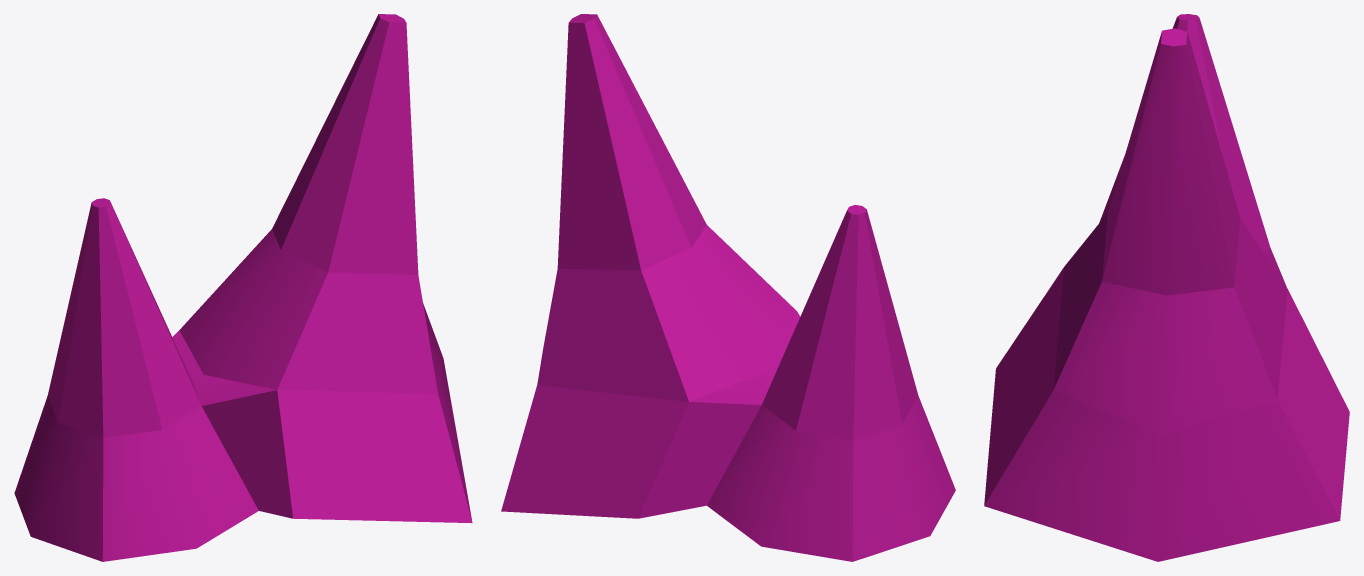
File: Stalagmite.fbx
The picture shows the model from 3 angles, left to right: view 1: azimuth 30°, elevation 25°; view 2: azimuth 150°, elevation 25°; view 3: azimuth 270°, elevation 25°; orthographic projection. The views are drawn at different scales.
Parts seen in each view (by area): view 1: Platform_Stalagmite; view 2: Platform_Stalagmite; view 3: Platform_Stalagmite.
Part boxes in pixels (x1=…): Platform_Stalagmite: x1=14, y1=14, x2=472, y2=561; Platform_Stalagmite: x1=501, y1=14, x2=955, y2=561; Platform_Stalagmite: x1=984, y1=14, x2=1349, y2=561.
Size of the model in its own units: 126 by 132 by 88.49.
